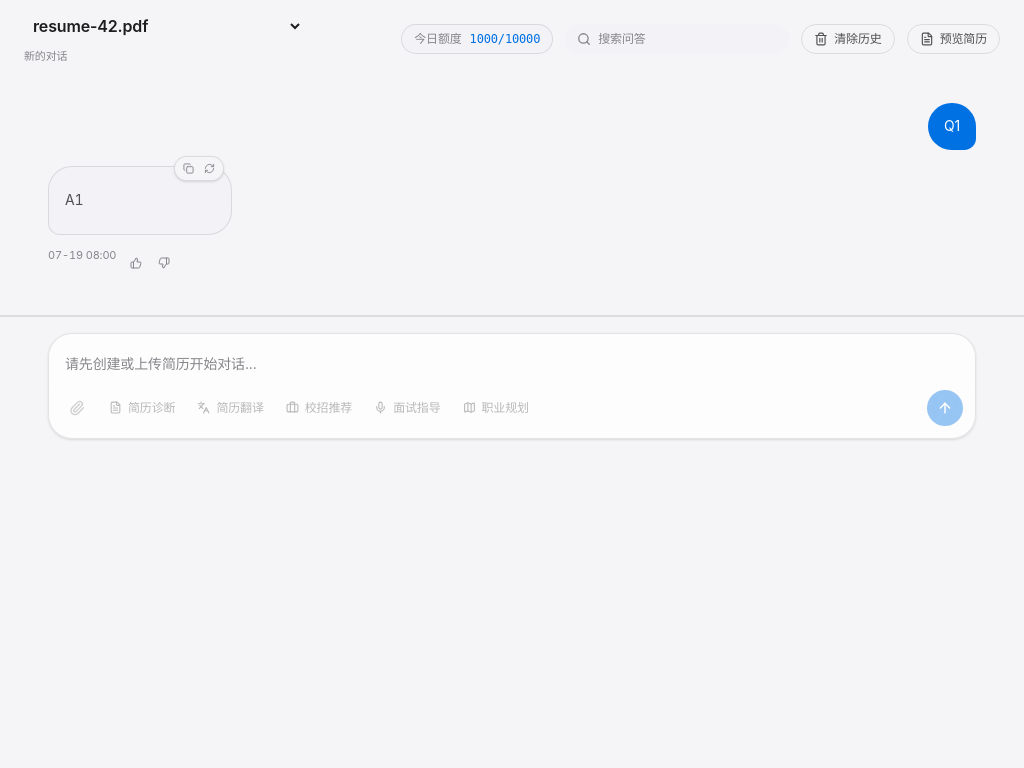
Test: QAPage 基本交互 (Task 4) › 点击清除历史按钮弹出 ConfirmDialog 显示条数
The image size is (1024, 768).
Check: the text "Q1" is shown, box [928,103,976,150]
Step 1. Click the button "清除历史" → click(848, 39), box [801,24,895,54]
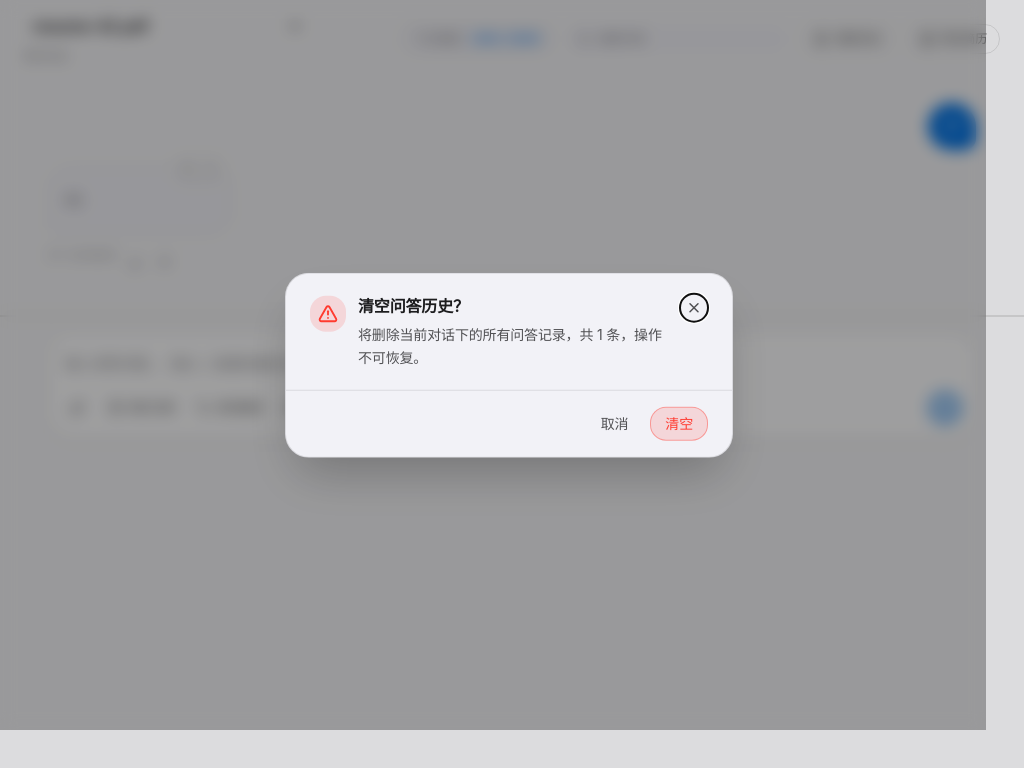
Check: the heading "清空问答历史？" is shown, box [358,296,469,316]
Check: the text "将删除当前对话下的所有问答记录，共 1 条，操作不可恢复。" is shown, box [358,324,668,369]
